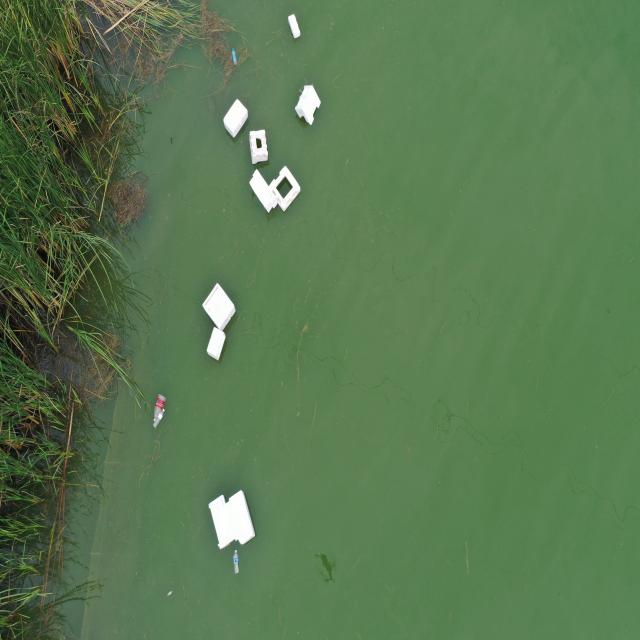Plastic Bottle: (154, 393, 166, 422), (152, 407, 166, 429), (232, 549, 240, 574), (232, 48, 238, 65)
Plastic Waste: (202, 282, 236, 331), (227, 490, 256, 544), (270, 165, 300, 212), (208, 494, 233, 550), (249, 169, 278, 213), (295, 85, 321, 126), (223, 98, 248, 138), (206, 326, 226, 361), (249, 129, 268, 165), (288, 13, 301, 39)
